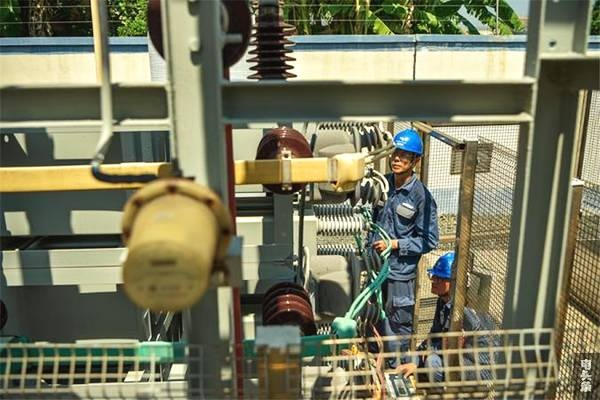blue: (425, 250, 468, 298), (384, 126, 425, 175)
